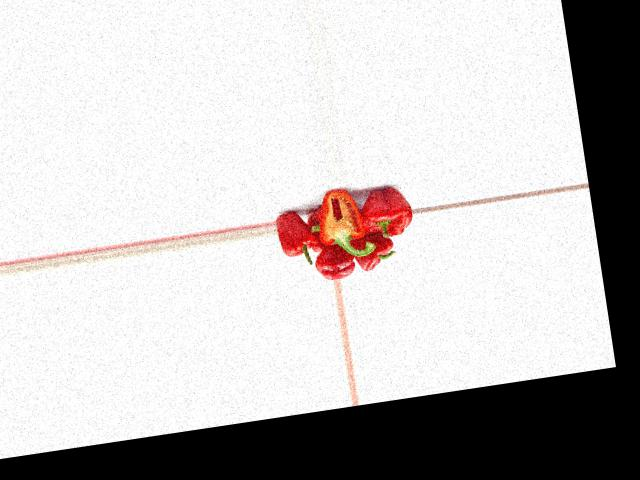bell_pepper: (350, 232, 398, 273)
